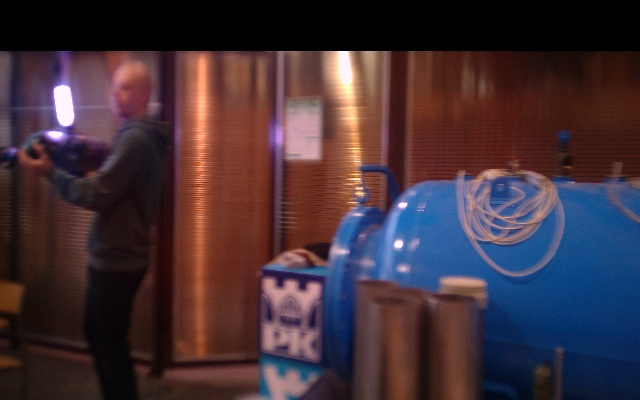white: (53, 85, 75, 126)
